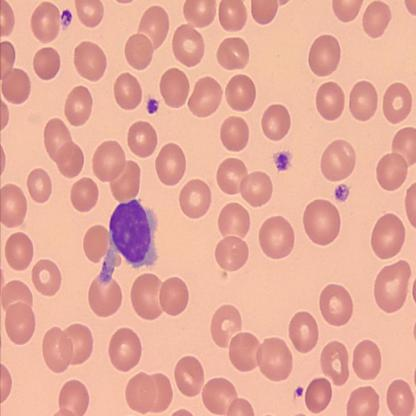Atypical lymphocyte: (96, 193, 161, 285)
